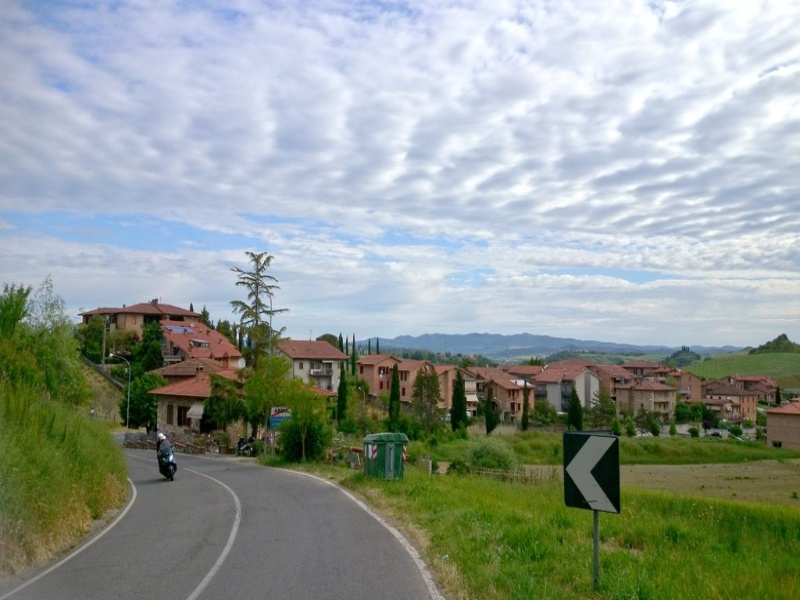left_direction: (556, 426, 627, 517)
